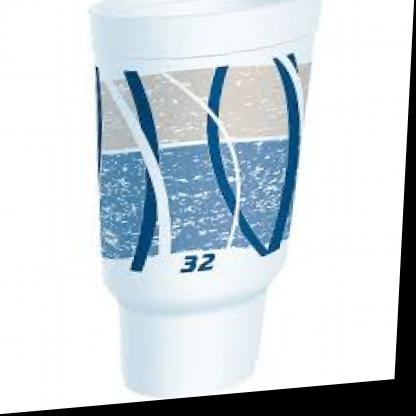trash: (92, 0, 319, 394)
